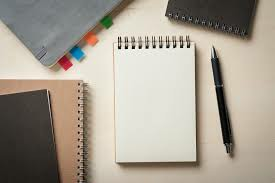pen: (209, 43, 236, 155)
